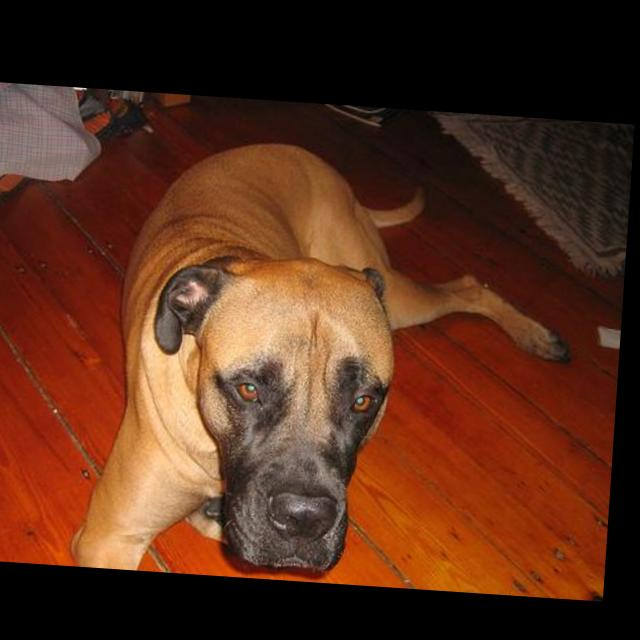bullmastiff: (76, 127, 588, 591)
